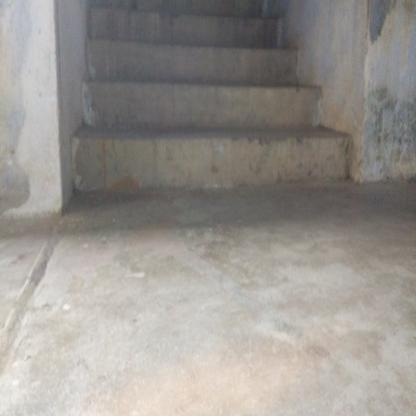stairs: (87, 4, 352, 202)
